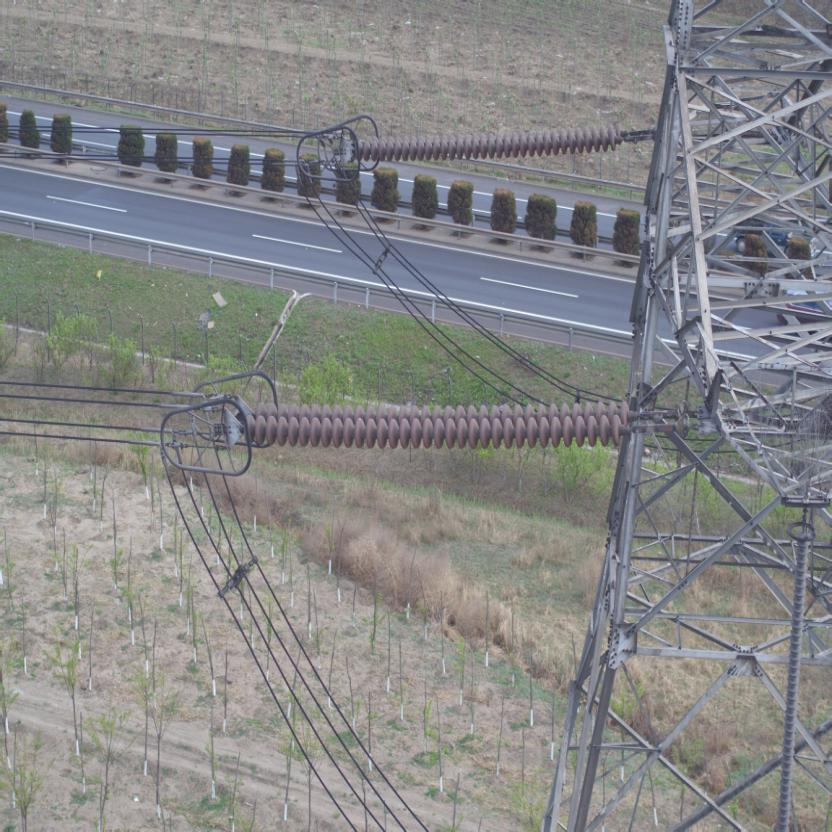insulator: (233, 394, 665, 449), (347, 121, 634, 166)
